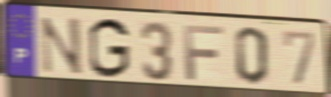0: (233, 24, 271, 88)
3: (139, 18, 174, 83)
7: (280, 29, 317, 88)
F: (181, 23, 226, 82)
G: (86, 16, 131, 81)
N: (38, 15, 85, 77)
